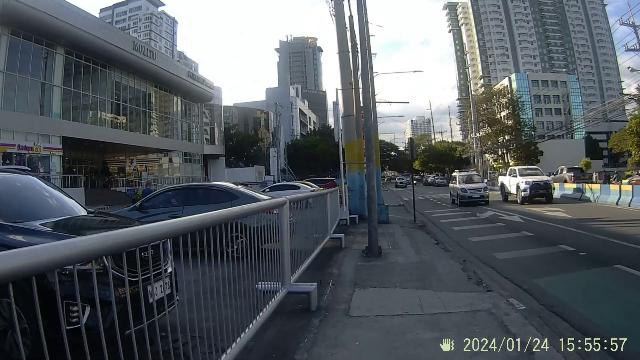car: (448, 167, 490, 207)
utility_post: (354, 0, 382, 258), (618, 15, 640, 124)
